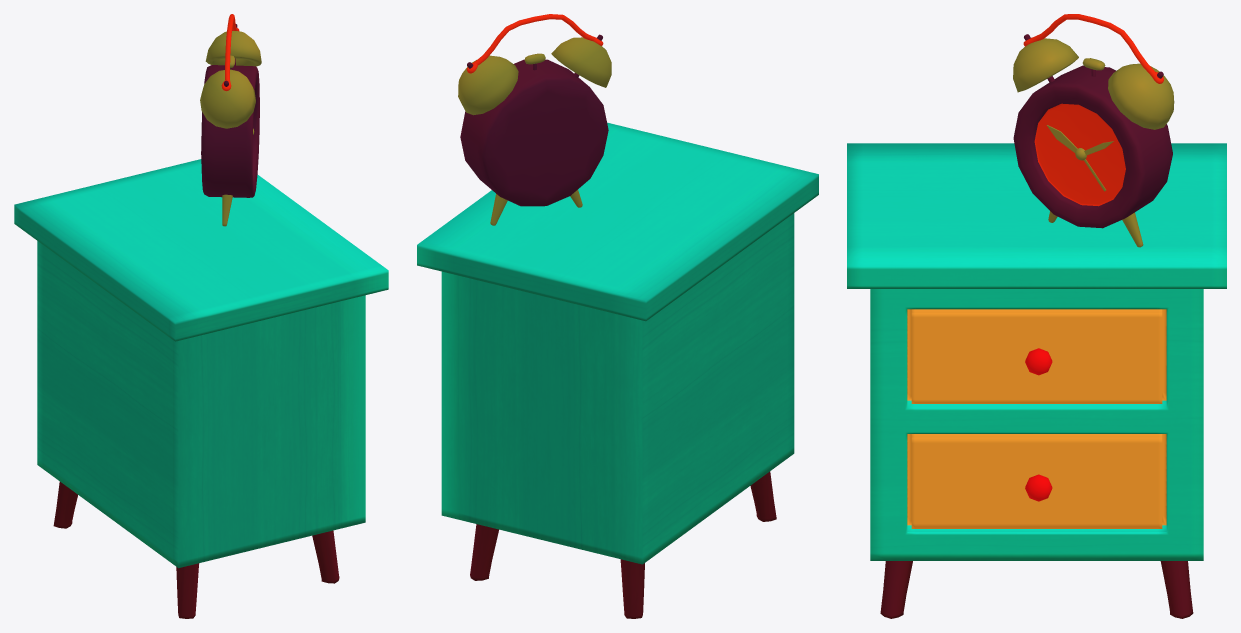
File: drawer-big.glb
3 views of the same model, side by side, from view 1: azimuth 30°, elevation 25°; view 2: azimuth 150°, elevation 25°; view 3: azimuth 270°, elevation 25° (orthographic). The views are drawn at different scales.
Parts seen in each view (by area): view 1: room3_dresser_big, room3_clock; view 2: room3_dresser_big, room3_clock; view 3: room3_dresser_big, room3_clock.
Part boxes in pixels (x1,y1,x2,y2): room3_dresser_big: [14, 159, 388, 618]; room3_clock: [200, 14, 261, 226]; room3_dresser_big: [417, 122, 818, 618]; room3_clock: [458, 14, 611, 225]; room3_dresser_big: [847, 143, 1226, 618]; room3_clock: [1013, 14, 1174, 247].
Bounding box in the file's own units: 1.49 × 3.24 × 1.9.
2 materials, 2 textured.
